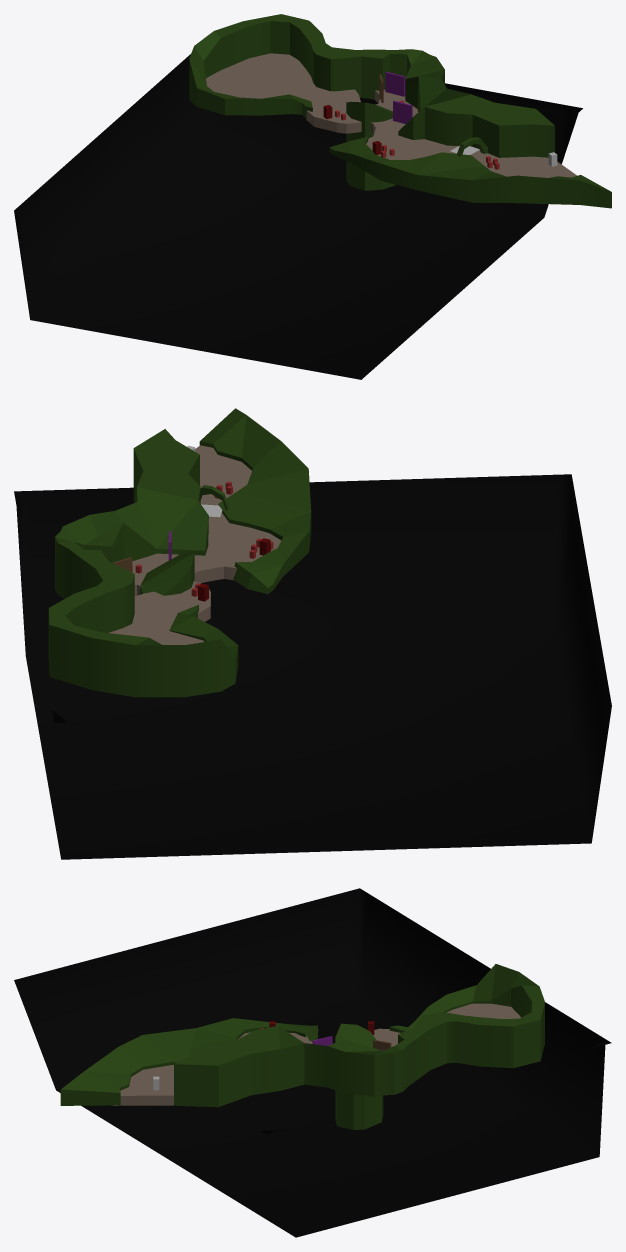
File: Airpath.fbx
The picture shows the model from 3 angles, top to bottom: view 1: azimuth 30°, elevation 25°; view 2: azimuth 150°, elevation 25°; view 3: azimuth 270°, elevation 25°; orthographic projection. The views are drawn at different scales.
Parts seen in each view (by area): view 1: pPlane1, polySurface1, polySurface3, polySurface2; view 2: pPlane1, polySurface1, polySurface3, polySurface2; view 3: pPlane1, polySurface1, polySurface3, polySurface2.
Part boxes in pixels (x1,y1,x2,y2): pPlane1: [14, 54, 582, 379]; polySurface1: [189, 14, 611, 208]; polySurface3: [206, 53, 576, 177]; polySurface2: [346, 101, 395, 190]; pPlane1: [14, 474, 611, 859]; polySurface1: [48, 408, 311, 697]; polySurface3: [109, 445, 281, 644]; polySurface2: [140, 553, 194, 595]; pPlane1: [14, 888, 611, 1237]; polySurface1: [60, 964, 544, 1107]; polySurface3: [113, 1003, 520, 1105]; polySurface2: [335, 1023, 383, 1129].
Size of the model in its own units: 27.68 by 7.93 by 27.36.
